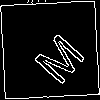M: (25, 25, 88, 87)
